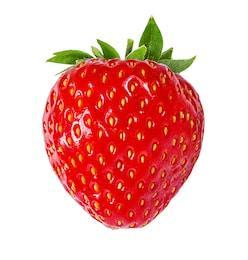Fresa: (36, 48, 210, 236)
